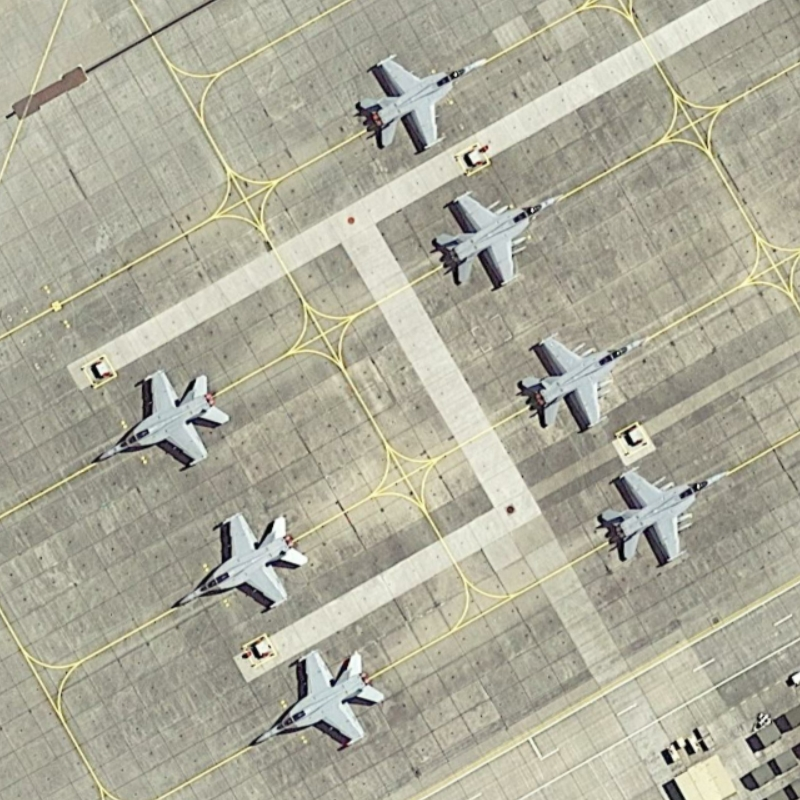A16: (82, 360, 237, 484), (590, 451, 743, 572), (241, 642, 391, 764), (347, 40, 488, 161), (162, 502, 310, 617), (511, 324, 654, 440), (429, 179, 568, 298)
